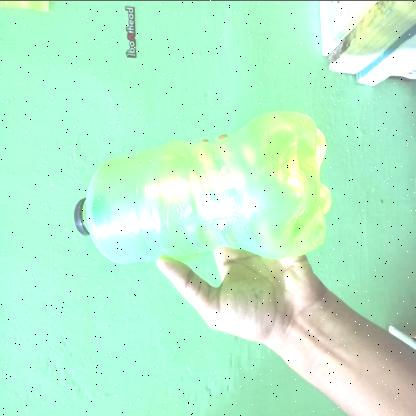Plastic Bottle: (74, 109, 332, 263)
